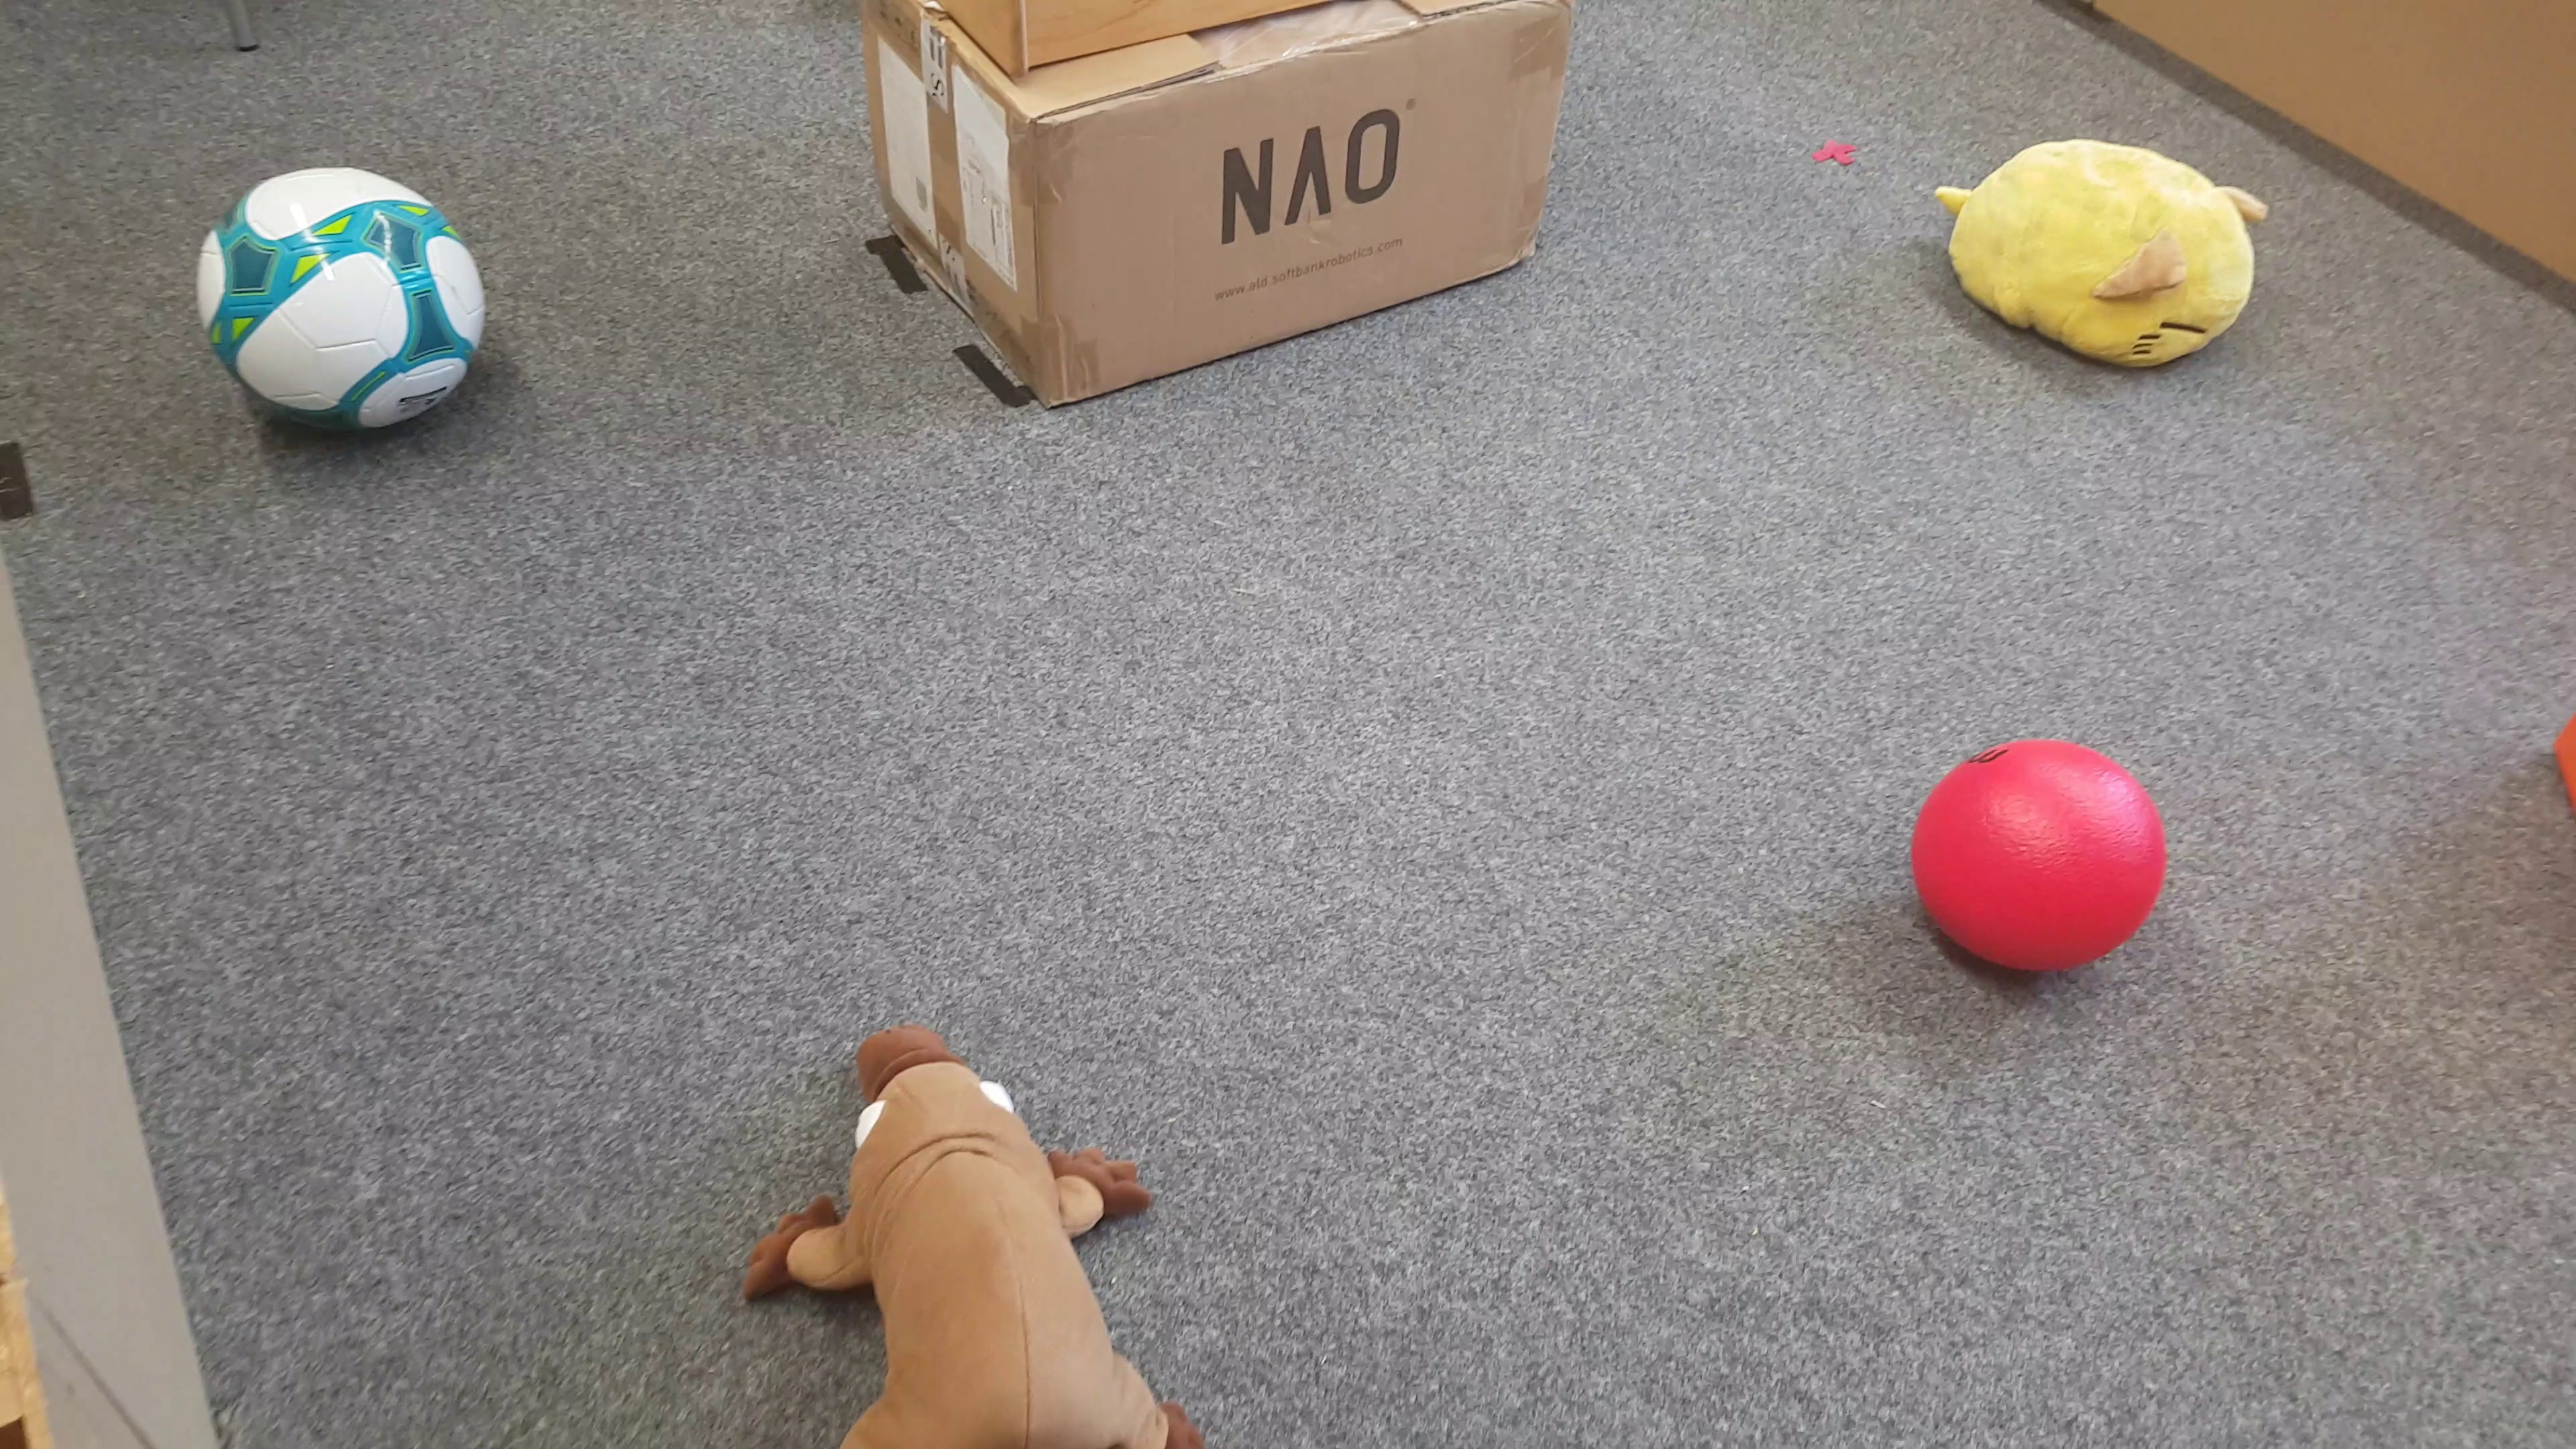grasp: (741, 1026, 1217, 1449), (1925, 133, 2265, 379)
kick: (195, 165, 487, 439), (1913, 743, 2169, 980)
